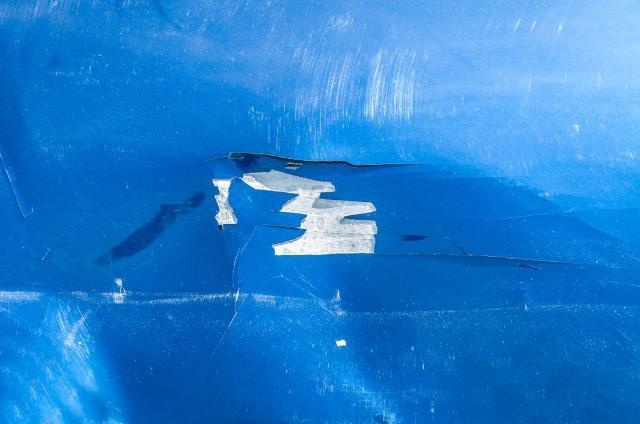dent: (0, 78, 608, 424)
scratch: (249, 9, 437, 150)
